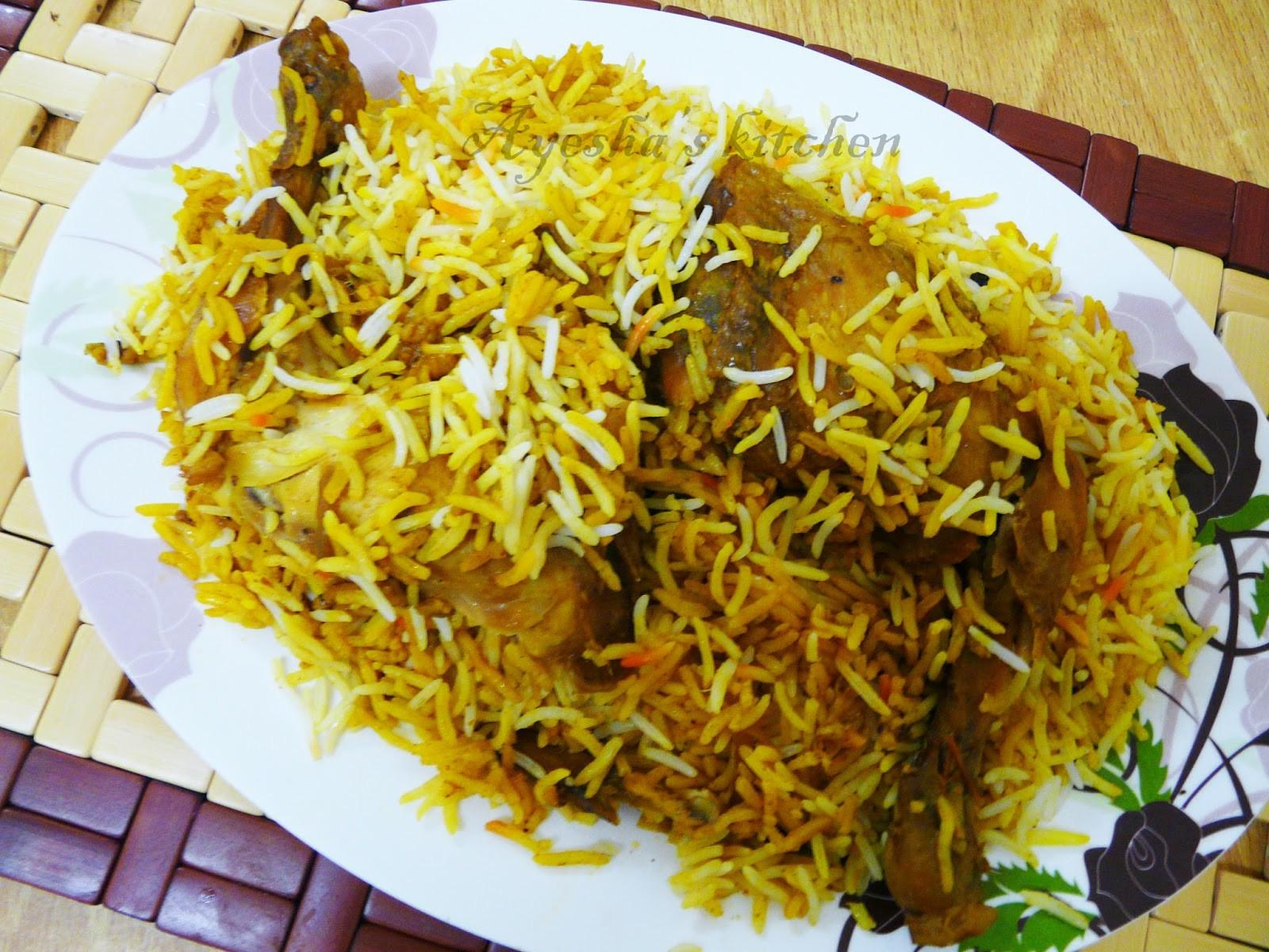Biryani: (131, 12, 1195, 937)
